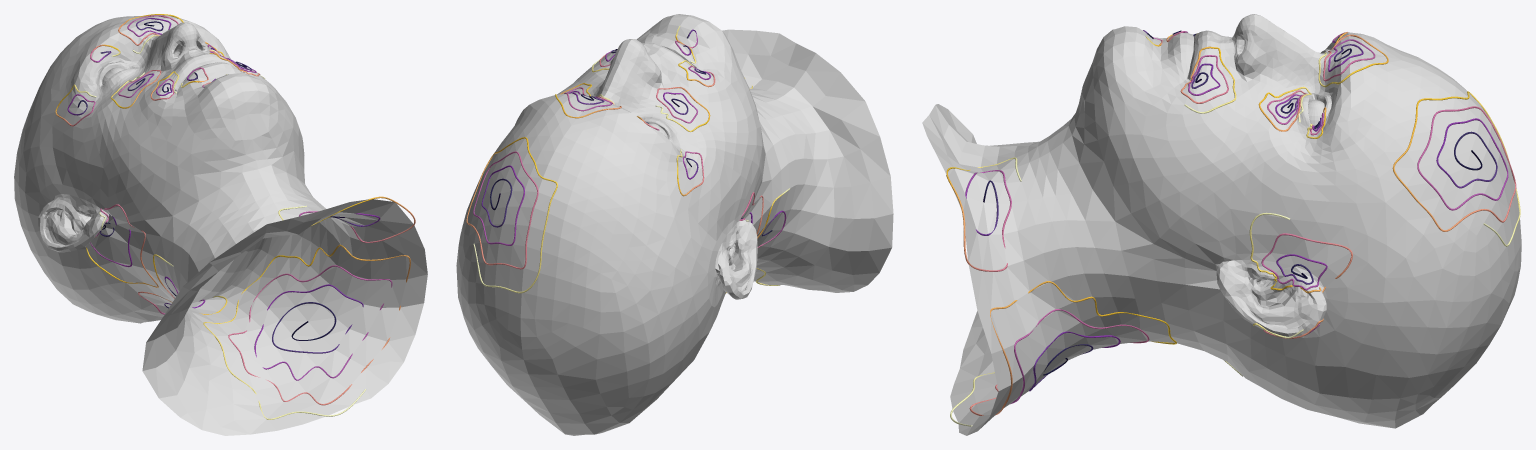
File: head_ours_all.glb
The picture shows the model from 3 angles, left to right: view 1: azimuth 30°, elevation 25°; view 2: azimuth 150°, elevation 25°; view 3: azimuth 270°, elevation 25°; orthographic projection. The views are drawn at different scales.
Parts seen in each view (by area): view 1: imagetostl_mesh0; view 2: imagetostl_mesh0; view 3: imagetostl_mesh0.
Boxes of the visible parts, x1,y1,x2,y2 form: imagetostl_mesh0: (14, 14, 427, 435); imagetostl_mesh0: (456, 14, 893, 435); imagetostl_mesh0: (922, 14, 1521, 435).
Bounding box in the file's own units: 220 × 249 × 327.
